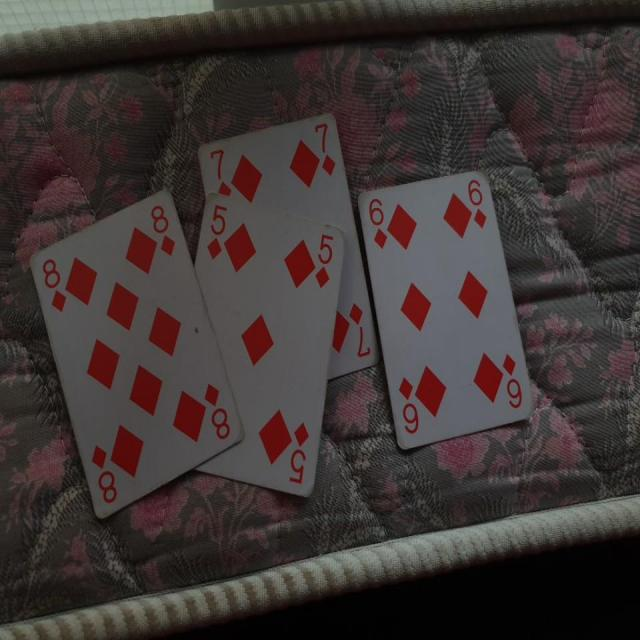5 Diamonds: (193, 191, 348, 502)
6 Diamonds: (356, 170, 534, 450)
7 Diamonds: (196, 112, 381, 383)
8 Diamonds: (28, 187, 246, 519)
